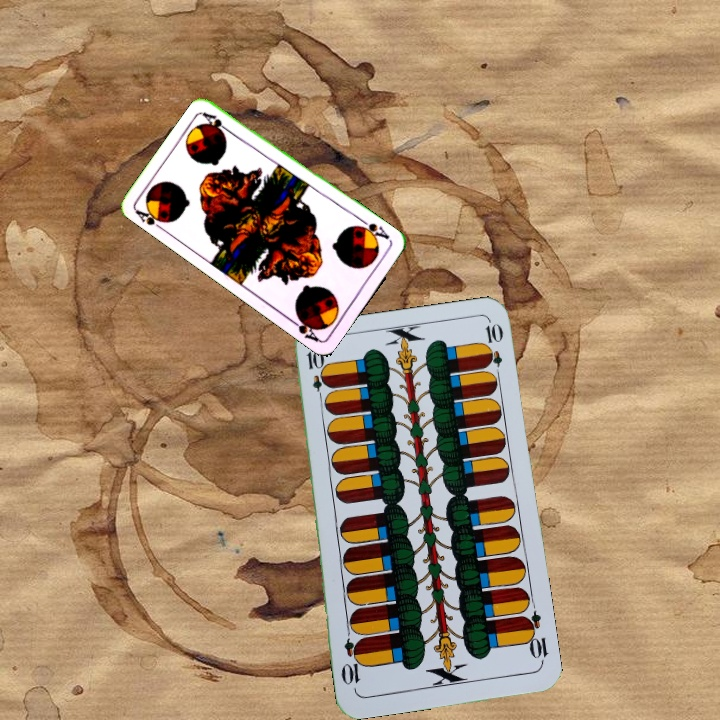E10: (519, 608, 550, 667), (303, 346, 328, 405)
SA: (131, 203, 172, 234), (354, 216, 393, 244)
